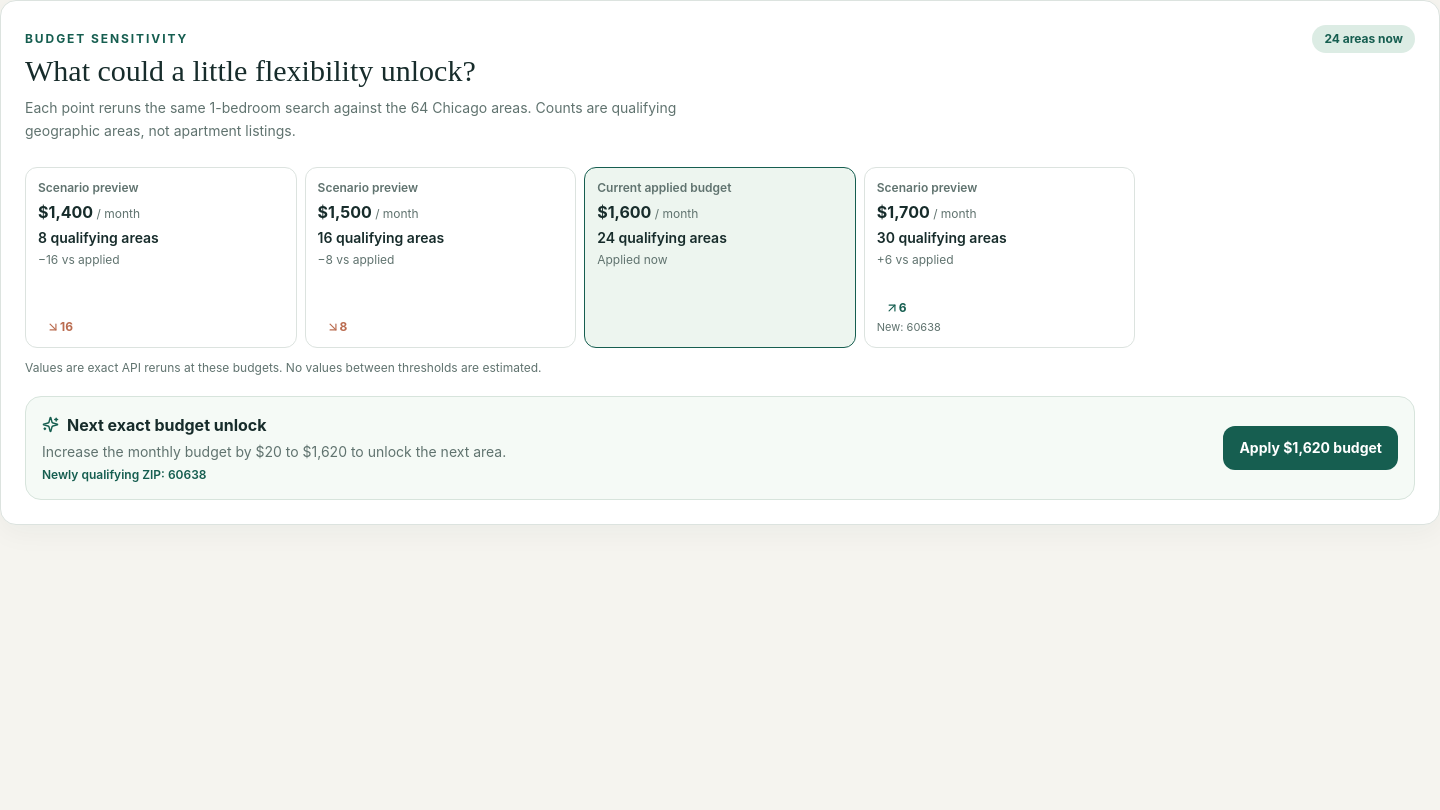
it: sensitivity API and panel › previews areas that no longer qualify at a lower budget
Click the button with aria-label "$1,400 budget: 8 qualifying areas, down 16".
click(88, 187)  # box [25,166,297,348]
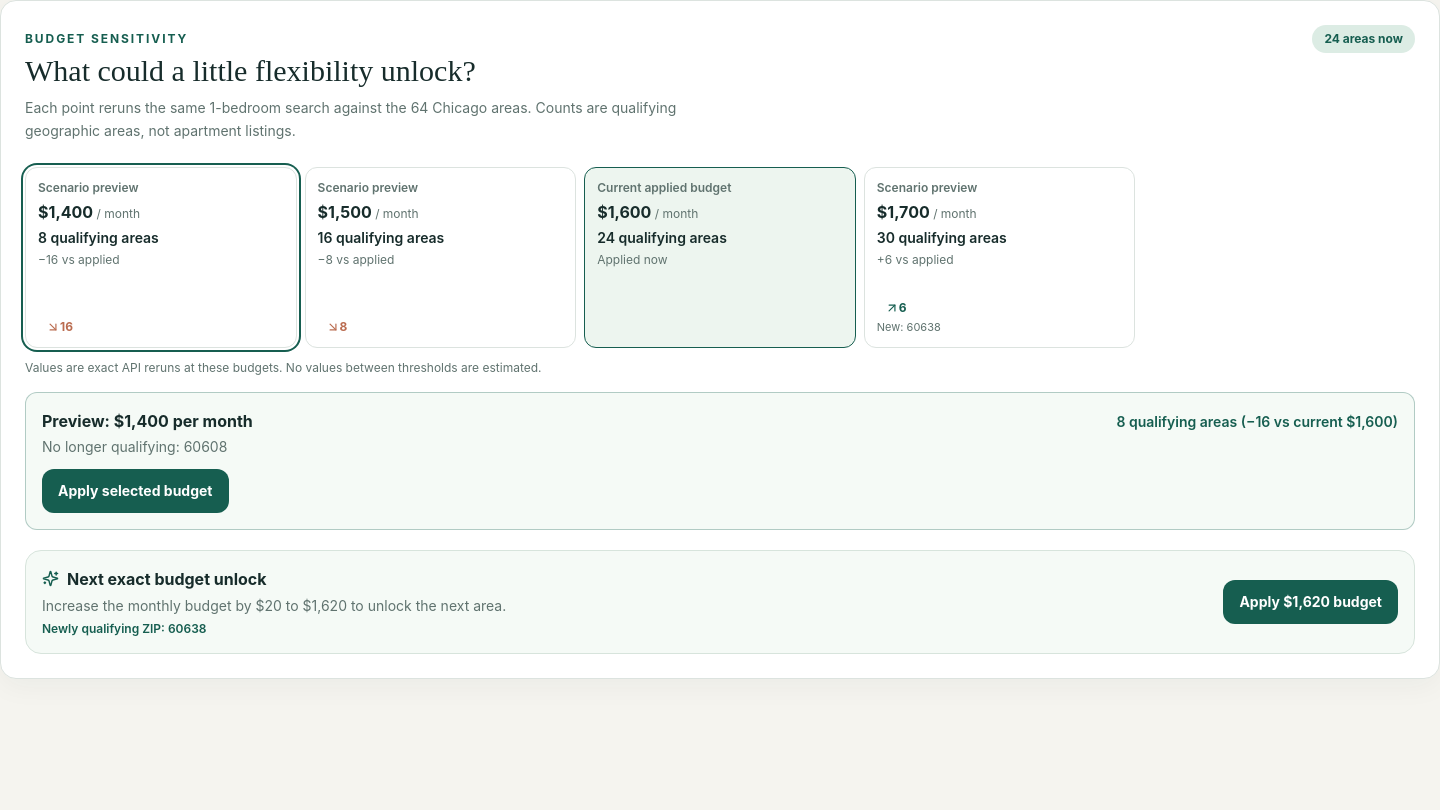
Now the text "No longer qualifying: 60608" is shown, box [42,438,227,455]
